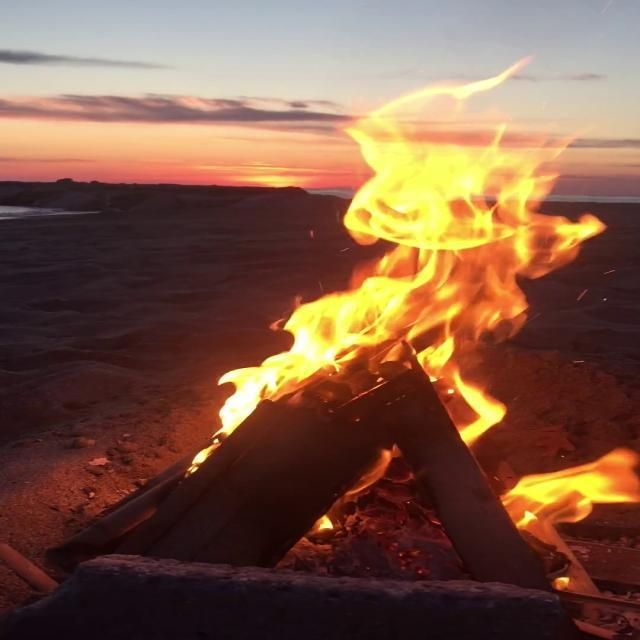Fire: (203, 57, 622, 440), (500, 439, 640, 526)
